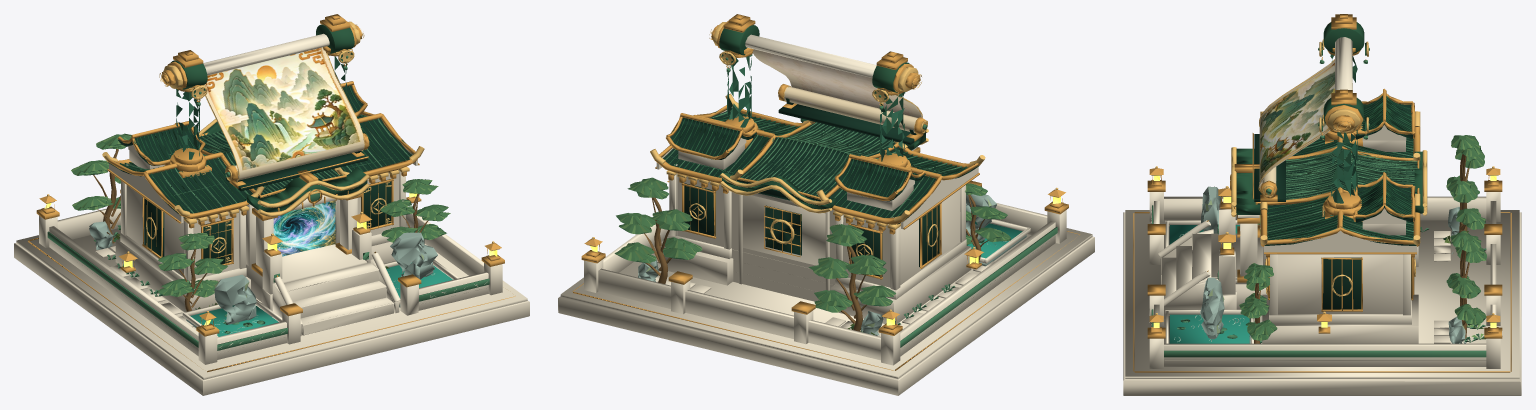
The model's file is relic-lod2-638f878391b0.glb.
3 renders of one model, left to right at view 1: azimuth 30°, elevation 25°; view 2: azimuth 150°, elevation 25°; view 3: azimuth 270°, elevation 25°, orthographic. The views are drawn at different scales.
Visible parts, largest first — view 1: GEO-export-MAT-relic-cream.019, GEO-export-MAT-relic-ivory.019, GEO-export-MAT-relic-rolled-front-v16.008, GEO-export-MAT-relic-gold.019, GEO-export-MAT-relic-jade-dark.019, GEO-export-MAT-relic-v20-needle-mid, GEO-export-MAT-relic-gold-light.019, GEO-export-MAT-relic-jade-light.019, GEO-export-MAT-relic-rock.019, GEO-export-MAT-relic-jade.019, GEO-export-MAT-relic-v17-portal-energy.006, GEO-export-MAT-relic-jade-mid.019 (+4 smaller); view 2: GEO-export-MAT-relic-cream.019, GEO-export-MAT-relic-ivory.019, GEO-export-MAT-relic-jade-dark.019, GEO-export-MAT-relic-gold.019, GEO-export-MAT-relic-v20-needle-mid, GEO-export-MAT-relic-jade-light.019, GEO-export-MAT-relic-gold-light.019, GEO-export-MAT-relic-scroll-painted-back.012, GEO-export-MAT-relic-jade-mid.019, GEO-export-MAT-relic-jade.019, GEO-export-MAT-relic-v20-needle-lit, GEO-export-MAT-relic-rolled-front-v16.008 (+6 smaller); view 3: GEO-export-MAT-relic-cream.019, GEO-export-MAT-relic-ivory.019, GEO-export-MAT-relic-gold.019, GEO-export-MAT-relic-jade-dark.019, GEO-export-MAT-relic-jade-light.019, GEO-export-MAT-relic-rolled-front-v16.008, GEO-export-MAT-relic-v20-needle-mid, GEO-export-MAT-relic-jade-mid.019, GEO-export-MAT-relic-jade.019, GEO-export-MAT-relic-gold-light.019, GEO-export-MAT-relic-rock.019, GEO-export-MAT-relic-water.019 (+5 smaller).
Boxes of the visible parts, box(x1,y1,x2,y2) form: GEO-export-MAT-relic-cream.019: box(16, 33, 527, 379); GEO-export-MAT-relic-ivory.019: box(14, 150, 529, 395); GEO-export-MAT-relic-rolled-front-v16.008: box(204, 47, 364, 180); GEO-export-MAT-relic-gold.019: box(28, 14, 515, 372); GEO-export-MAT-relic-jade-dark.019: box(108, 85, 413, 264); GEO-export-MAT-relic-v20-needle-mid: box(72, 133, 449, 297); GEO-export-MAT-relic-gold-light.019: box(46, 21, 499, 320); GEO-export-MAT-relic-jade-light.019: box(47, 55, 489, 350); GEO-export-MAT-relic-rock.019: box(89, 221, 437, 327); GEO-export-MAT-relic-jade.019: box(170, 24, 367, 212); GEO-export-MAT-relic-v17-portal-energy.006: box(273, 200, 335, 256); GEO-export-MAT-relic-jade-mid.019: box(119, 86, 406, 212); GEO-export-MAT-relic-cream.019: box(560, 34, 1092, 378); GEO-export-MAT-relic-ivory.019: box(558, 144, 1094, 395); GEO-export-MAT-relic-jade-dark.019: box(662, 98, 978, 276); GEO-export-MAT-relic-gold.019: box(572, 14, 1079, 370); GEO-export-MAT-relic-v20-needle-mid: box(614, 177, 1010, 312); GEO-export-MAT-relic-jade-light.019: box(665, 54, 1057, 347); GEO-export-MAT-relic-gold-light.019: box(586, 22, 1058, 319); GEO-export-MAT-relic-scroll-painted-back.012: box(752, 49, 921, 117); GEO-export-MAT-relic-jade-mid.019: box(669, 111, 968, 217); GEO-export-MAT-relic-jade.019: box(719, 25, 925, 209); GEO-export-MAT-relic-v20-needle-lit: box(617, 179, 1009, 312); GEO-export-MAT-relic-rolled-front-v16.008: box(784, 86, 922, 132); GEO-export-MAT-relic-cream.019: box(1125, 37, 1519, 378); GEO-export-MAT-relic-ivory.019: box(1123, 124, 1521, 395); GEO-export-MAT-relic-gold.019: box(1133, 14, 1511, 372); GEO-export-MAT-relic-jade-dark.019: box(1254, 95, 1416, 309); GEO-export-MAT-relic-jade-light.019: box(1151, 48, 1486, 357); GEO-export-MAT-relic-rolled-front-v16.008: box(1259, 61, 1334, 187); GEO-export-MAT-relic-v20-needle-mid: box(1239, 135, 1486, 340); GEO-export-MAT-relic-jade-mid.019: box(1267, 94, 1413, 240); GEO-export-MAT-relic-jade.019: box(1236, 22, 1423, 214); GEO-export-MAT-relic-gold-light.019: box(1151, 39, 1498, 322); GEO-export-MAT-relic-rock.019: box(1168, 186, 1470, 343); GEO-export-MAT-relic-water.019: box(1170, 225, 1249, 343).
Bounding box in the file's own units: 9.98 × 7.16 × 9.97.
32 materials, 3 textured.
